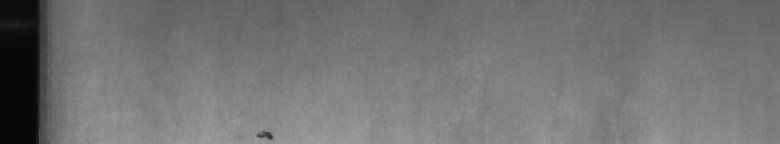fi: (253, 124, 276, 136)
